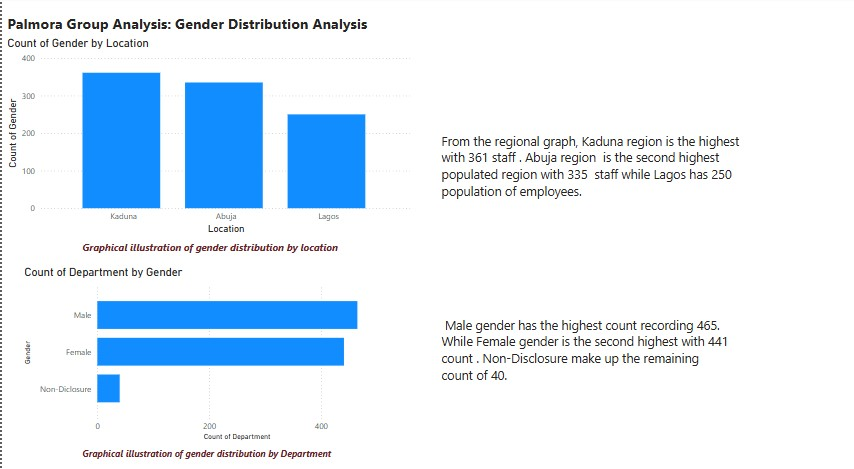

The page's visual inventory and layout, read from the dashboard file:
{"tool":"powerbi","page":{"name":"Page 1","canvas":[1280,720],"ordinal":0},"visuals":[{"type":"textbox","box":[3,20.9,700.6,50.8],"z":0},{"type":"columnChart","fields":{"Y":["CountNonNull(Palmoria Group emp-data2 (2).Gender)","select"],"Category":["Palmoria Group emp-data2 (2).Location"]},"box":[115,103.1,476.5,237.5],"z":1000},{"type":"clusteredBarChart","fields":{"Y":["CountNonNull(Palmoria Group emp-data2 (2).Department)"],"Category":["Palmoria Group emp-data2 (2).Gender"]},"box":[98.6,430.2,476.5,239],"z":2000},{"type":"textbox","box":[651.3,198.7,476.5,85.1],"z":3000},{"type":"textbox","box":[164.3,339.1,410.8,41.8],"z":4000},{"type":"textbox","box":[164.3,669.2,476.5,38.8],"z":5000},{"type":"textbox","box":[651.3,473.5,439.2,150.9],"z":6000}]}

Visuals, with their boxes in screenshot pixels (x1, y1, x2, y2), scaled from the page's 1280x720 canvas onto the 854x469 screenshot:
textbox: <bbox>2, 14, 469, 47</bbox>
columnChart - CountNonNull(Palmoria Group emp-data2 (2).Gender) x select: <bbox>77, 67, 395, 222</bbox>
clusteredBarChart - CountNonNull(Palmoria Group emp-data2 (2).Department) x Palmoria Group emp-data2 (2).Gender: <bbox>66, 280, 384, 436</bbox>
textbox: <bbox>435, 129, 752, 185</bbox>
textbox: <bbox>110, 221, 384, 248</bbox>
textbox: <bbox>110, 436, 428, 461</bbox>
textbox: <bbox>435, 308, 728, 407</bbox>
